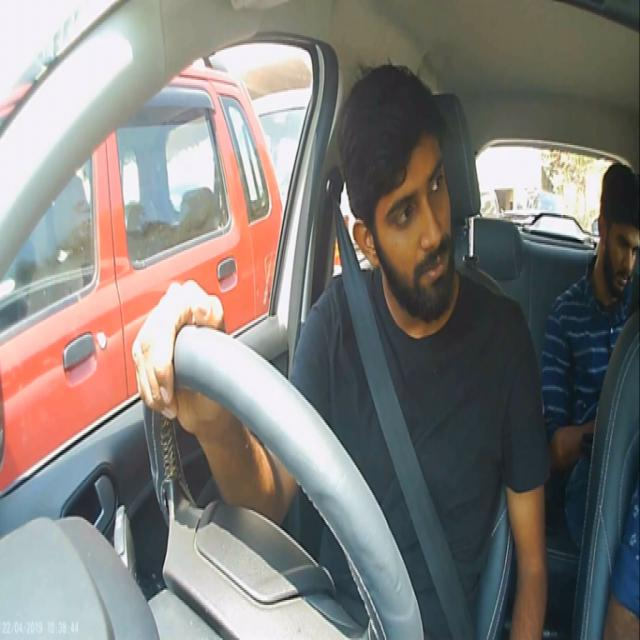seatbelt: (330, 294, 505, 618)
